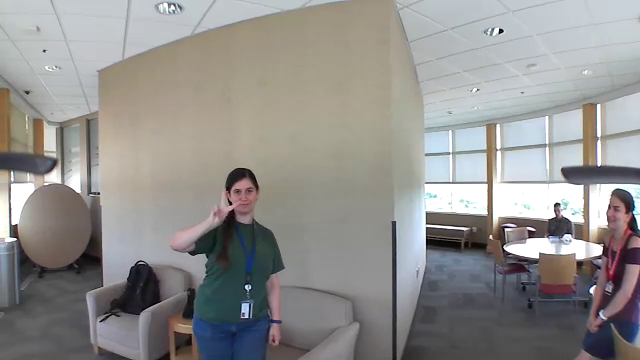peace: (211, 189, 247, 233)
